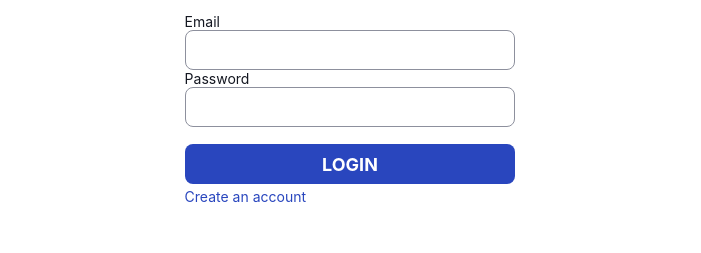
Test: Testing LoginForm... › When a user does not enter a valid email type & at least 8 character for the password
Type "test" into the field labelled "Email" at (350, 50), box x1=185 y1=30 x2=515 y2=70
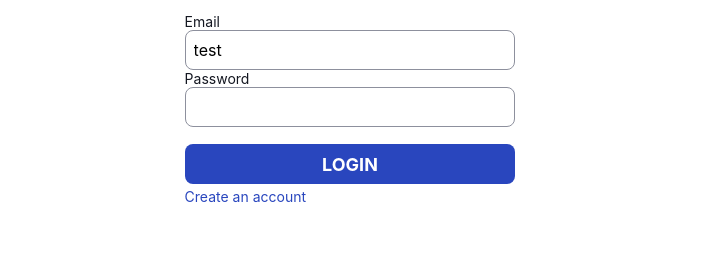
Type "1234" into the password field labelled "Password" at (350, 107), box x1=185 y1=87 x2=515 y2=127
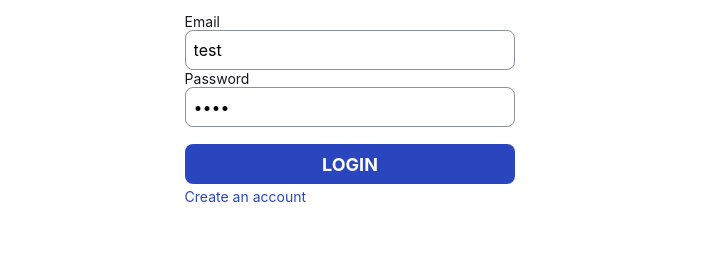
Click the button at (350, 164), box x1=185 y1=144 x2=515 y2=184
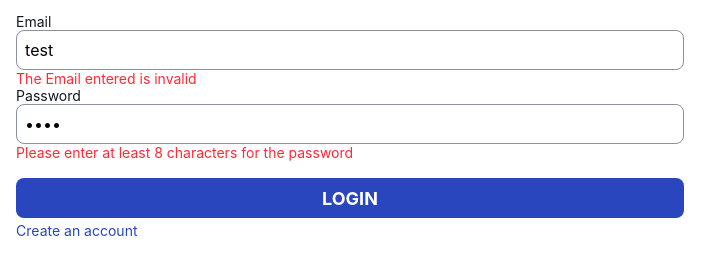
Expected: the text "The Email entered is invalid" is shown, x1=16 y1=70 x2=197 y2=87
Expected: the text "Please enter at least 8 characters for the password" is shown, x1=16 y1=144 x2=353 y2=161
